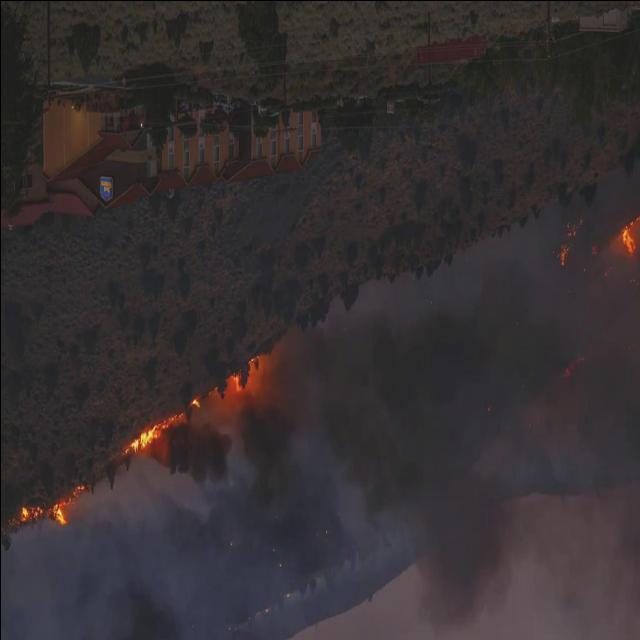Fire: (123, 415, 178, 456), (622, 217, 640, 254), (17, 508, 43, 519), (52, 502, 66, 522), (71, 482, 86, 500), (232, 372, 241, 392), (560, 243, 568, 265), (190, 398, 202, 406)
